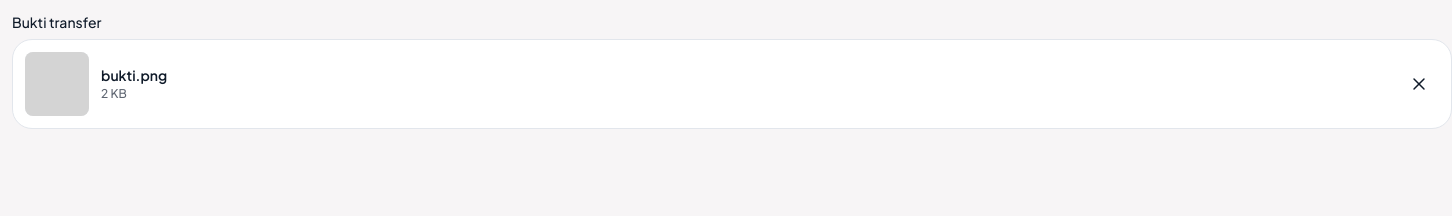
Scenario: FileDropzone › selects through the file input and removes the file
The width and height of the screenshot is (1452, 216).
Earlier steps of the test are not shown.
Click the button named "Hapus bukti.png" at (1419, 84), box [1399,64,1439,104]
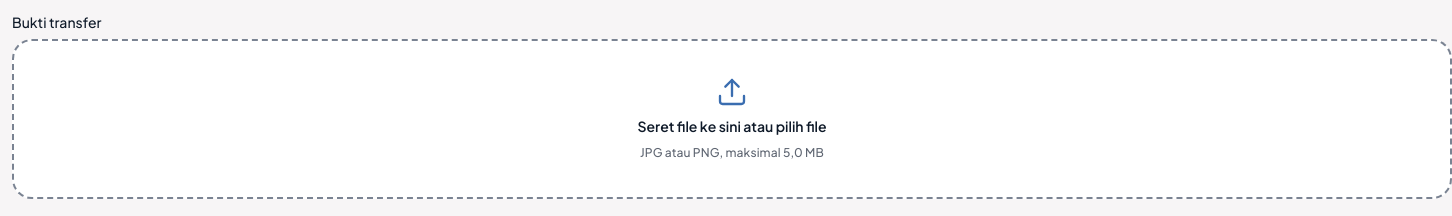
Now the button named "Bukti transfer" is shown
